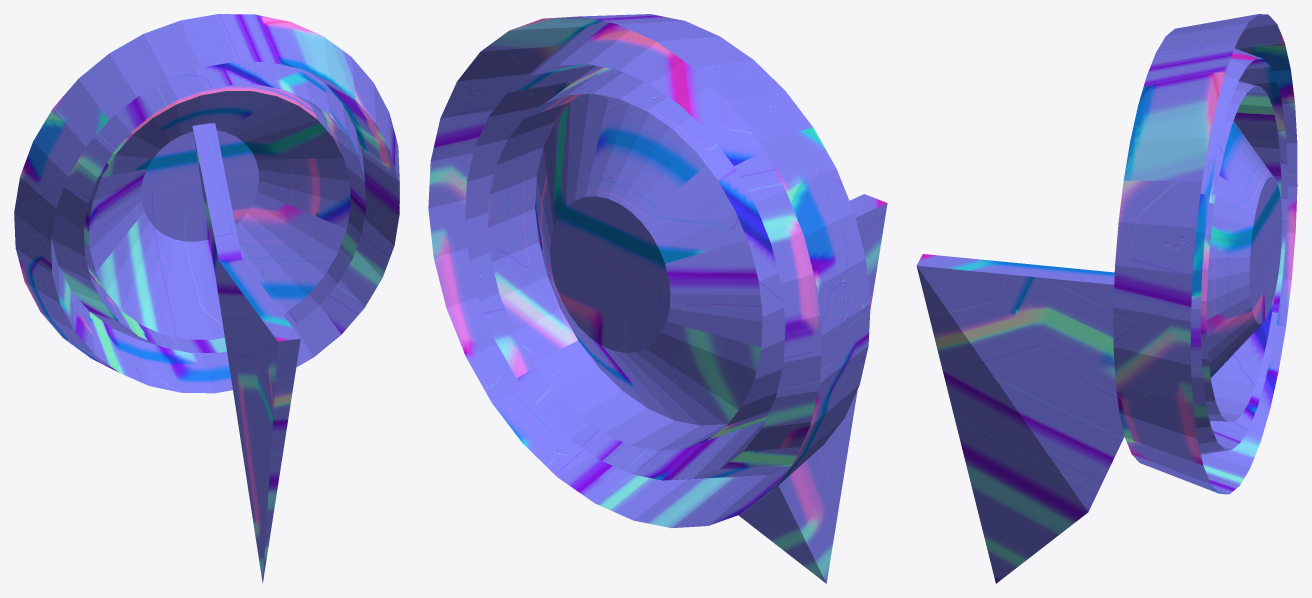
File: radar18.obj
3 renders of one model, left to right at view 1: azimuth 30°, elevation 25°; view 2: azimuth 150°, elevation 25°; view 3: azimuth 270°, elevation 25°, orthographic. The views are drawn at different scales.
Parts seen in each view (by area): view 1: radar; view 2: radar; view 3: radar.
Boxes of the visible parts, left/top/right/bottom form: radar: left=14, top=14, right=399, bottom=583; radar: left=428, top=14, right=887, bottom=583; radar: left=916, top=14, right=1297, bottom=583.
Bounding box in the file's own units: 0.9636 × 1.3 × 0.779.
